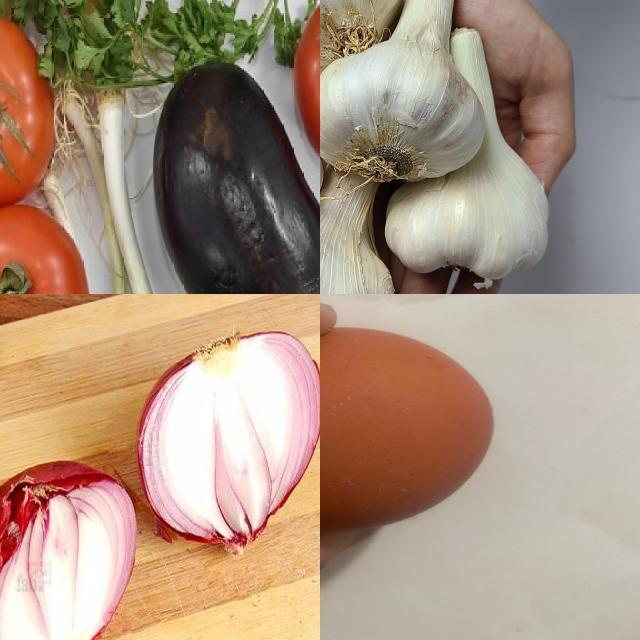egg: (321, 324, 505, 529)
eggplant: (157, 55, 321, 295)
garlic: (381, 31, 565, 282), (321, 1, 489, 188), (321, 157, 403, 295), (321, 1, 407, 90)
onion: (137, 328, 321, 557), (1, 456, 141, 640)
tomato: (1, 19, 56, 206), (1, 201, 88, 295)
